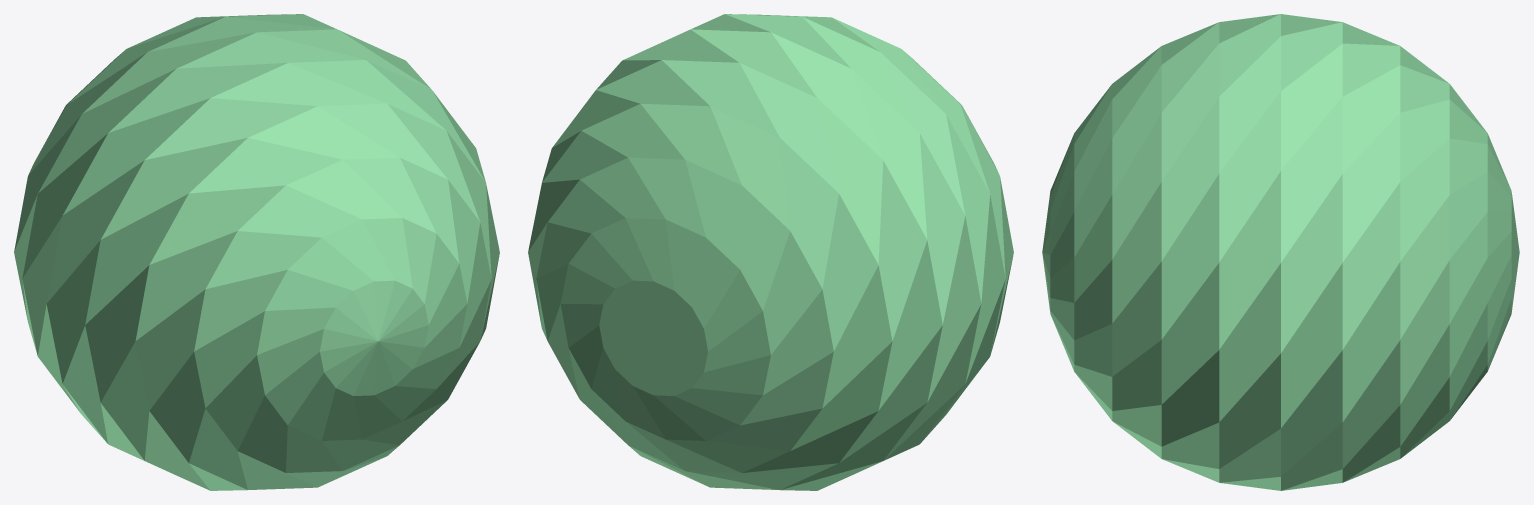
Rendered from marker.gltf.
3 renders of one model, left to right at view 1: azimuth 30°, elevation 25°; view 2: azimuth 150°, elevation 25°; view 3: azimuth 270°, elevation 25°, orthographic.
Visible parts, largest first — view 1: marker.gltf; view 2: marker.gltf; view 3: marker.gltf.
Part boxes in pixels (box(x1,y1,x2,y2)): marker.gltf: box(14, 14, 499, 490); marker.gltf: box(528, 14, 1013, 490); marker.gltf: box(1042, 14, 1519, 490).
Size of the model in its own units: 0.16 by 0.16 by 0.16.
